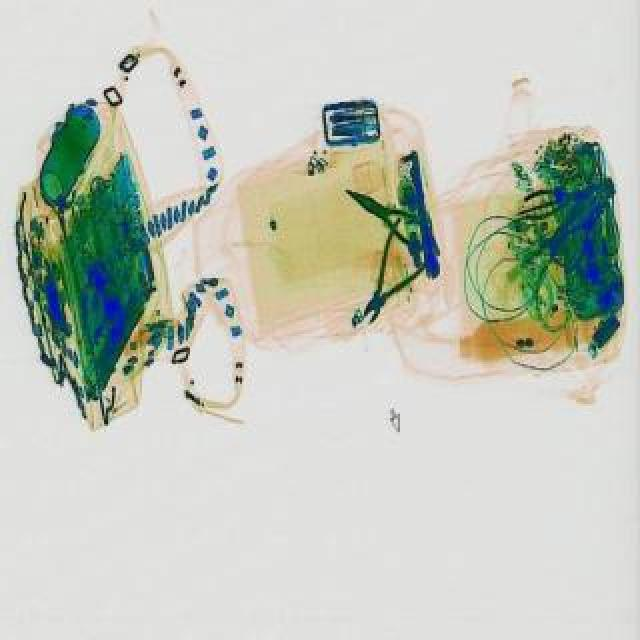scissors: (540, 176, 608, 256)
wrench: (344, 222, 444, 338), (338, 180, 434, 252), (544, 196, 622, 280), (522, 182, 598, 226)
